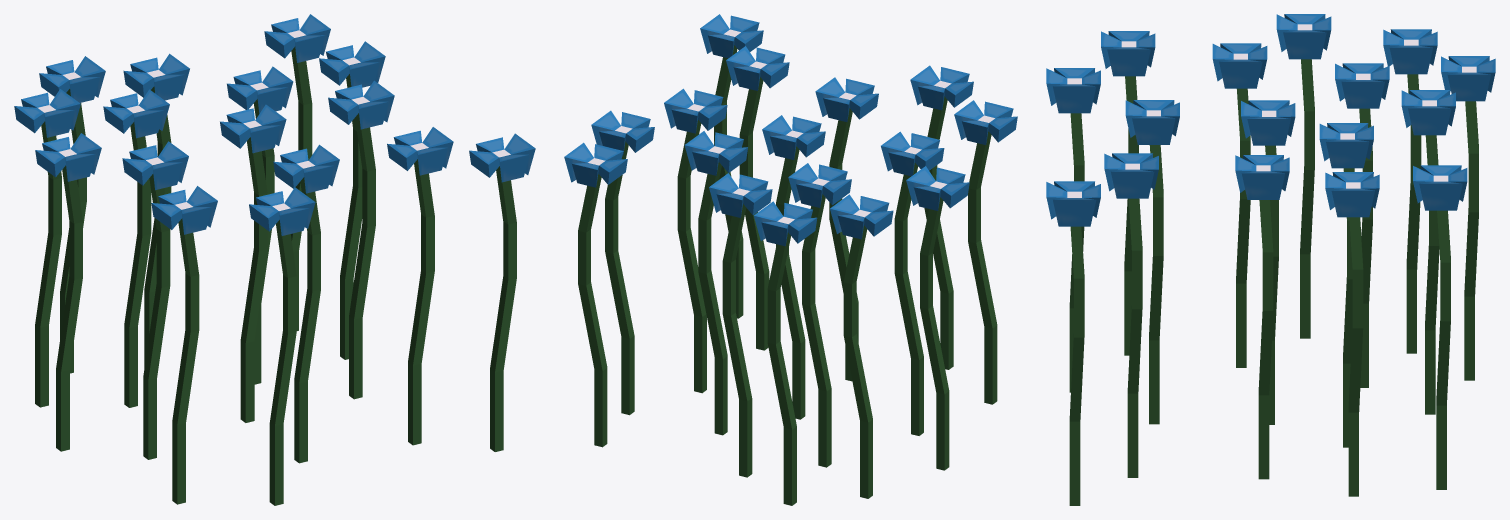
File: tree.obj
3 views of the same model, side by side, from view 1: azimuth 30°, elevation 25°; view 2: azimuth 150°, elevation 25°; view 3: azimuth 270°, elevation 25° (orthographic). The views are drawn at different scales.
Visible parts, largest first — view 1: Cube.013_Cube.014, Cube.010_Cube.011, Cube.016_Cube.017, Cube.006_Cube.007, Cube.014_Cube.015, Cube.011_Cube.012, Cube.007_Cube.008, Cube.008_Cube.009, Cube.001_Cube.002, Cube.003_Cube.004, Cube.009_Cube.010, Cube.012_Cube.013 (+4 smaller); view 2: Cube.004_Cube.005, Cube.015_Cube.016, Cube.005_Cube.006, Cube.016_Cube.017, Cube.010_Cube.011, Cube.009_Cube.010, Cube.002_Cube.003, Cube.003_Cube.004, Cube.008_Cube.009, Cube.006_Cube.007, Cube.012_Cube.013, Cube.001_Cube.002 (+4 smaller); view 3: Cube.006_Cube.007, Cube.014_Cube.015, Cube.011_Cube.012, Cube.012_Cube.013, Cube.016_Cube.017, Cube.005_Cube.006, Cube.015_Cube.016, Cube.007_Cube.008, Cube.004_Cube.005, Cube.008_Cube.009, Cube.009_Cube.010, Cube.003_Cube.004 (+4 smaller).
Boxes of the visible parts, x1,y1,x2,y2 form: Cube.013_Cube.014: (249,187,315,505); Cube.010_Cube.011: (151,186,217,504); Cube.016_Cube.017: (35,133,101,451); Cube.006_Cube.007: (328,80,394,399); Cube.014_Cube.015: (469,133,535,451); Cube.011_Cube.012: (387,127,453,445); Cube.007_Cube.008: (273,144,339,463); Cube.008_Cube.009: (122,141,188,459); Cube.001_Cube.002: (220,104,286,422); Cube.003_Cube.004: (103,89,169,407); Cube.009_Cube.010: (14,89,80,407); Cube.012_Cube.013: (319,41,385,359); Cube.004_Cube.005: (709,173,772,477); Cube.015_Cube.016: (754,201,817,505); Cube.005_Cube.006: (564,142,627,447); Cube.016_Cube.017: (906,166,969,470); Cube.010_Cube.011: (954,100,1017,404); Cube.009_Cube.010: (830,194,893,498); Cube.002_Cube.003: (684,131,747,435); Cube.003_Cube.004: (788,163,851,467); Cube.008_Cube.009: (881,131,944,435); Cube.006_Cube.007: (664,88,727,393); Cube.012_Cube.013: (591,110,654,415); Cube.001_Cube.002: (762,115,825,419); Cube.006_Cube.007: (1235,155,1289,479); Cube.014_Cube.015: (1046,181,1100,505); Cube.011_Cube.012: (1104,153,1158,477); Cube.012_Cube.013: (1325,172,1379,496); Cube.016_Cube.017: (1276,14,1331,338); Cube.005_Cube.006: (1413,165,1467,489); Cube.015_Cube.016: (1441,56,1495,380); Cube.007_Cube.008: (1125,100,1179,424); Cube.004_Cube.005: (1401,90,1455,414); Cube.008_Cube.009: (1212,43,1267,367); Cube.009_Cube.010: (1383,29,1437,353); Cube.003_Cube.004: (1335,63,1389,387).
Bounding box in the file's own units: 1.95 × 1.52 × 1.94.
1 material, 1 textured.
